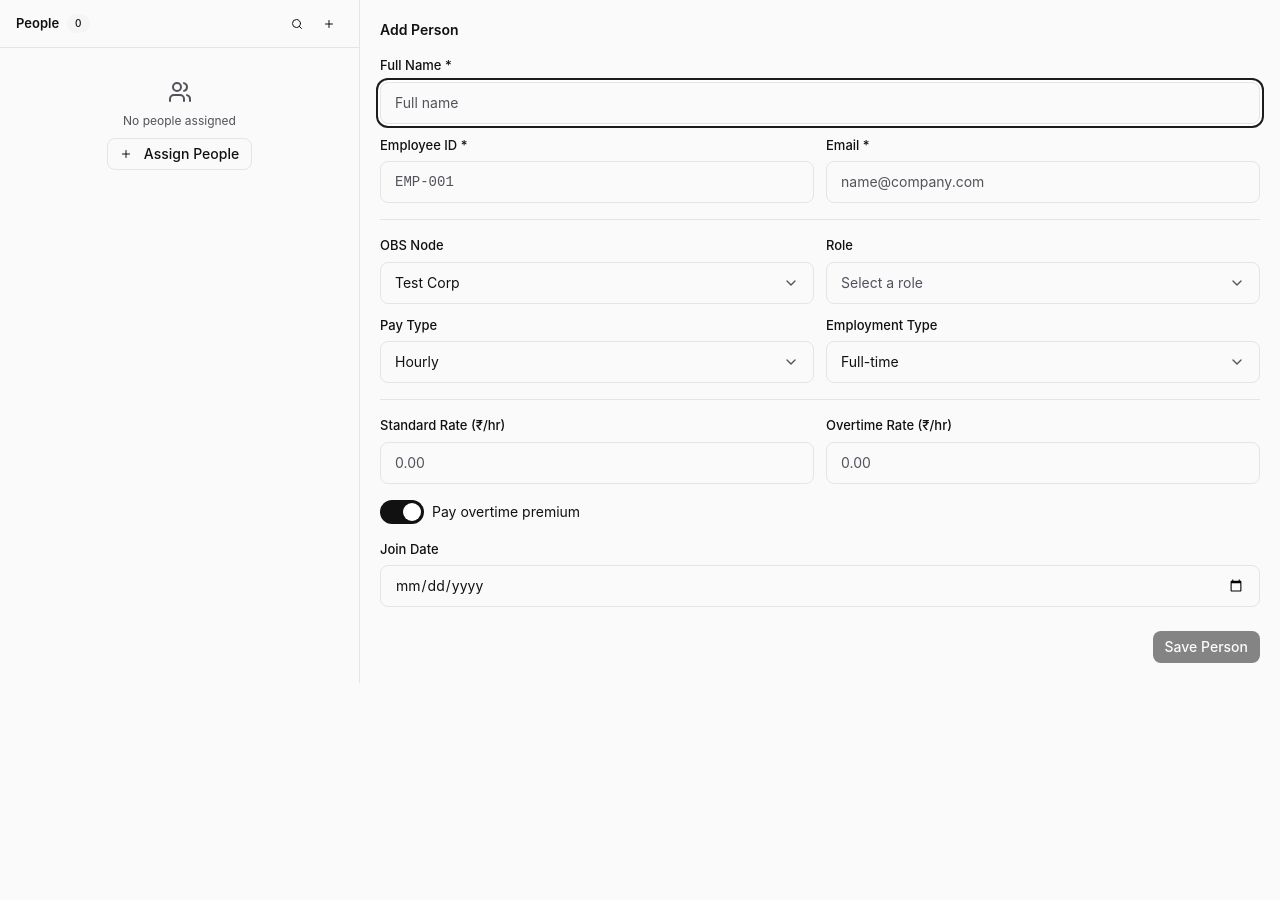
Test: PeopleTab — API-first mutations › shows error message when API create fails
In the field with placeholder "Full name": (820,102) [380,82,1260,124], type "Bob Jones"
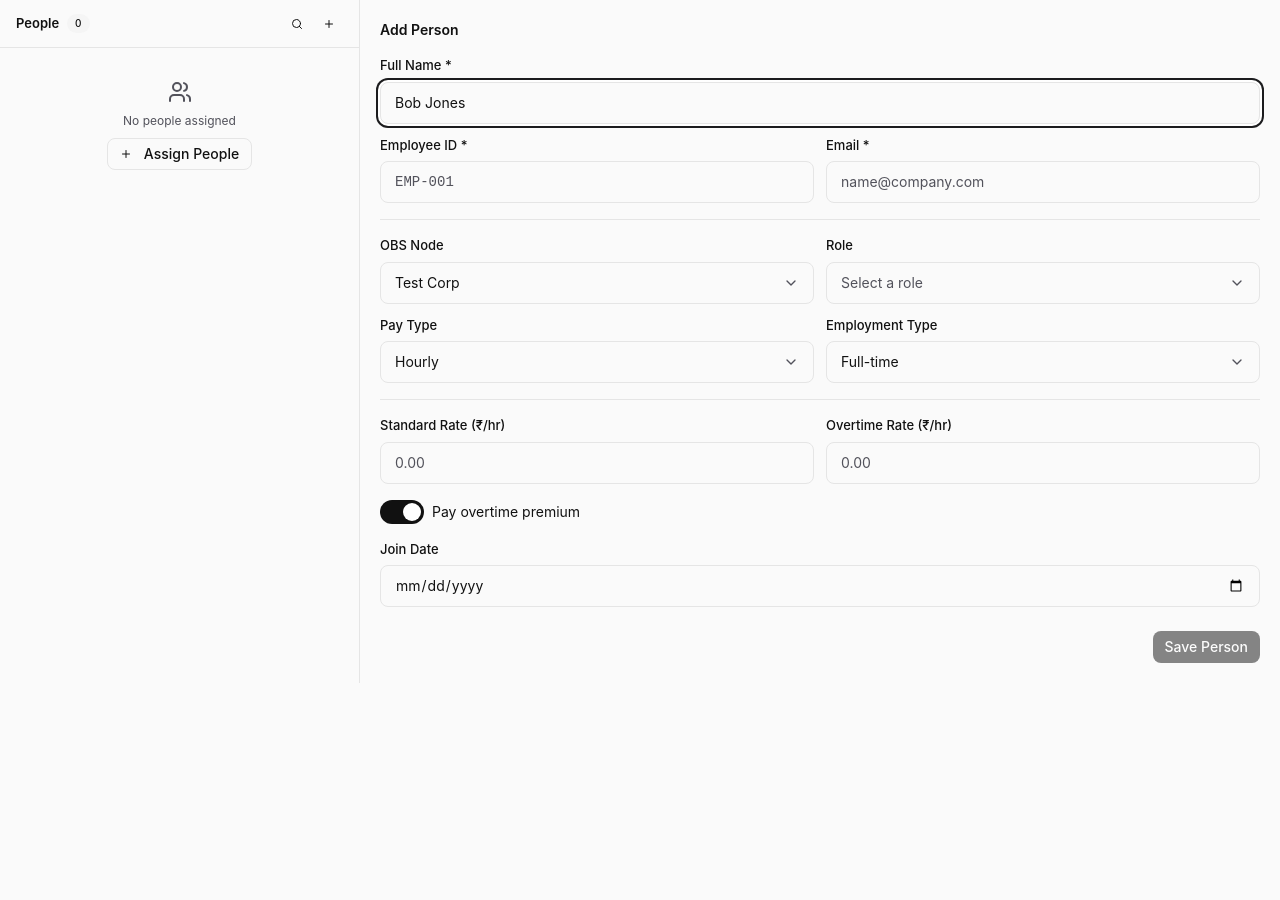
In the field with placeholder "EMP-001": (597,182) [380,161,814,203], type "EMP-999"
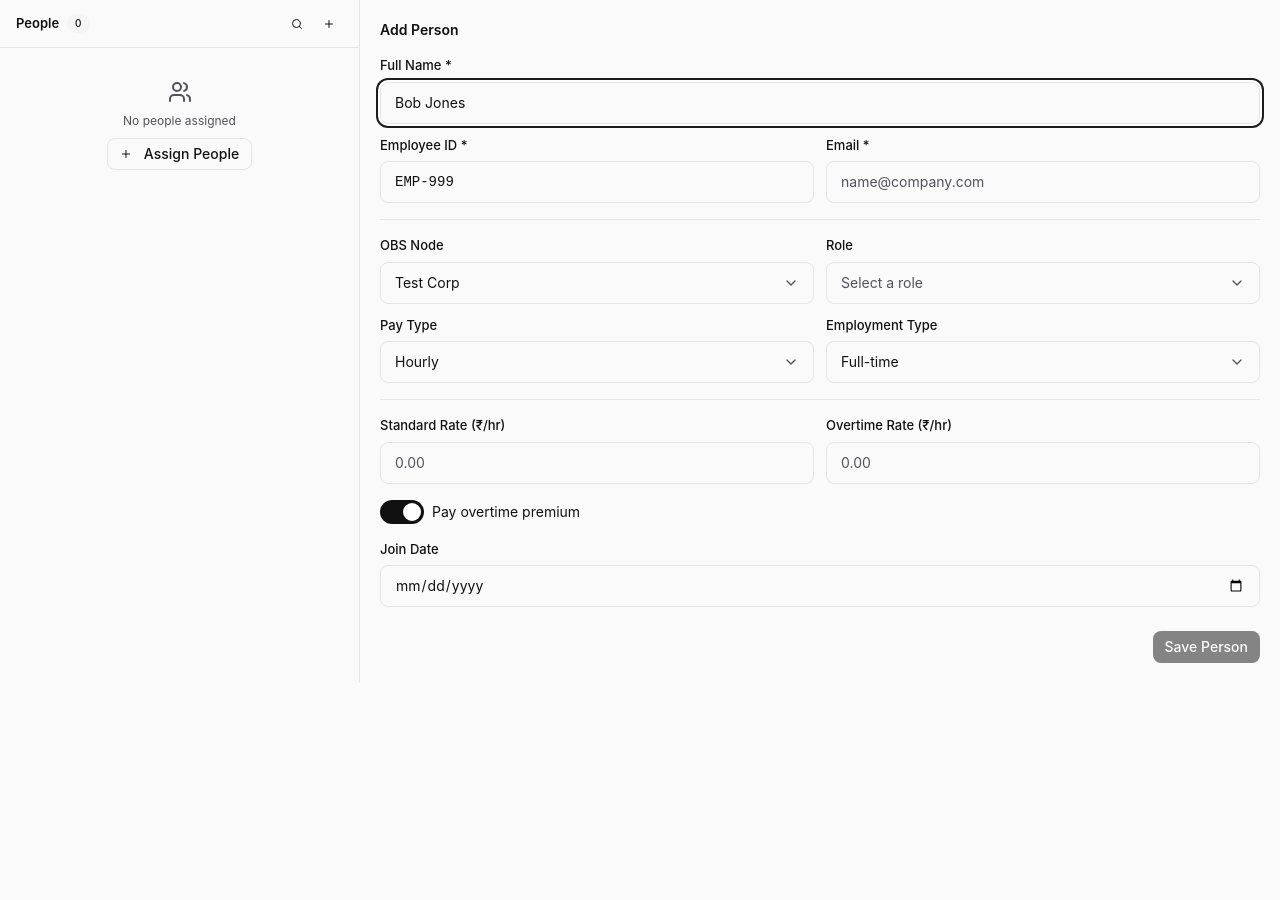
In the field with placeholder "name@company.com": (1043,182) [826,161,1260,203], type "bob@test.com"
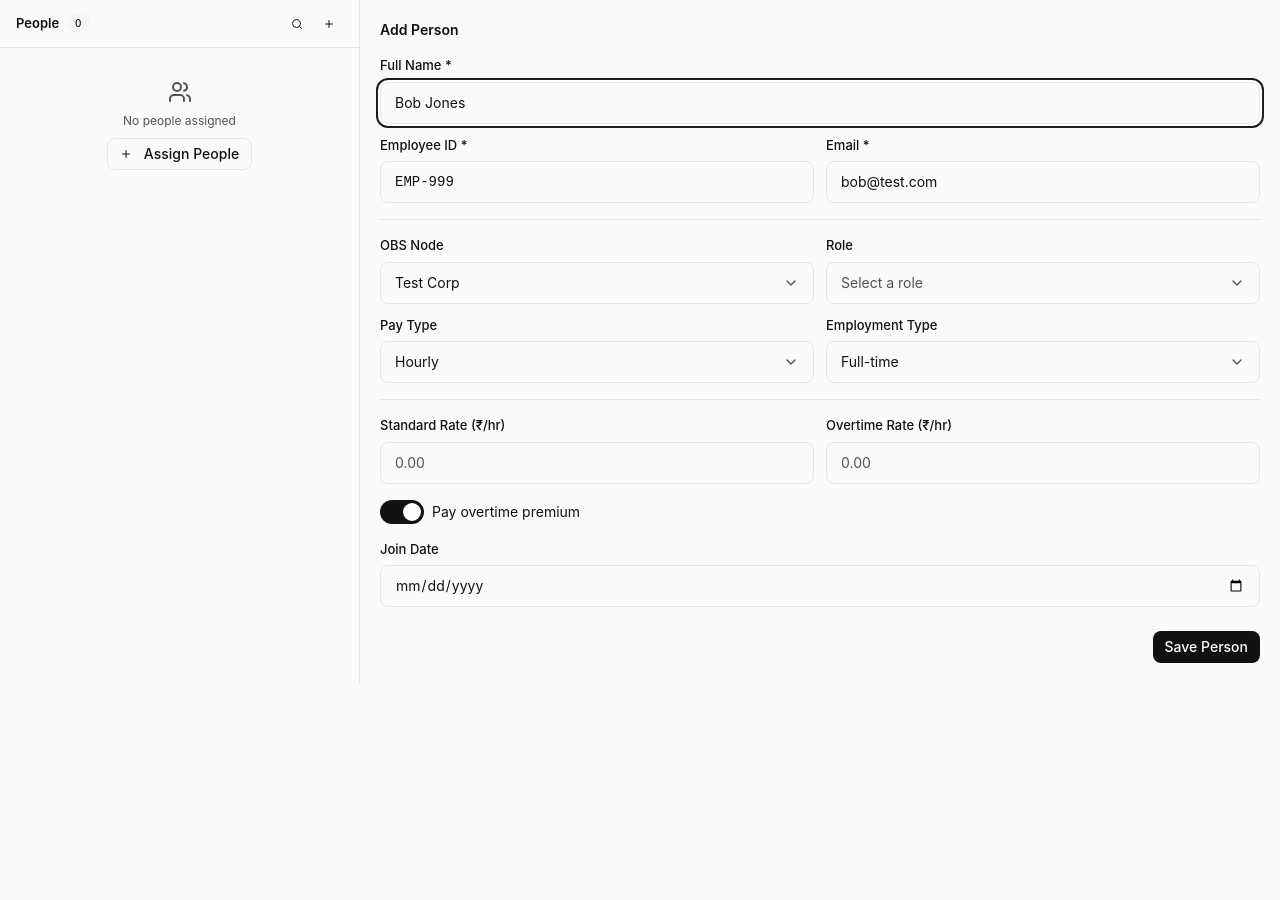
Click the button "Save Person": (1206,647) [1152,631,1260,663]
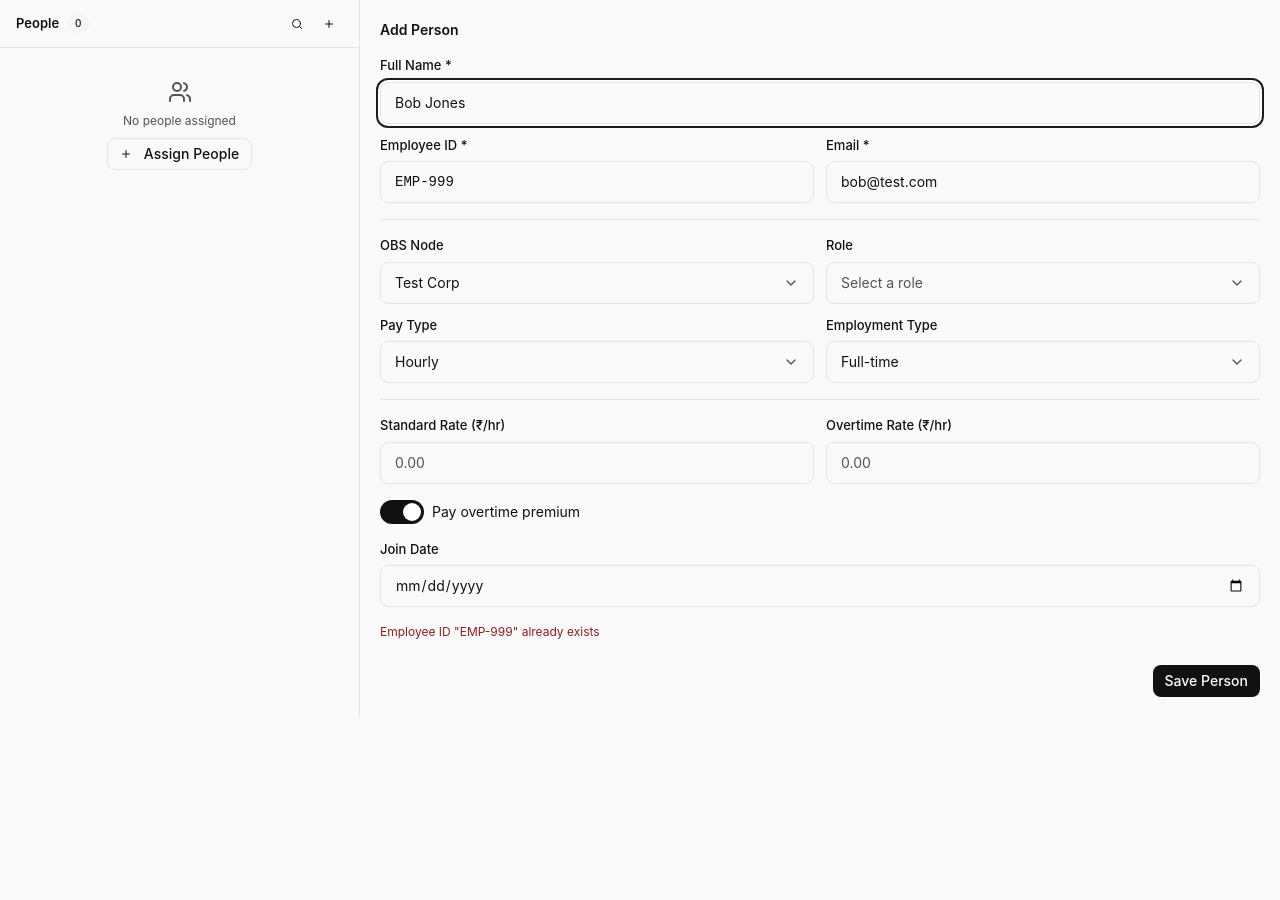
expect the text "Employee ID \"EMP-999\" already exists" is shown: met, box [380,624,600,639]
